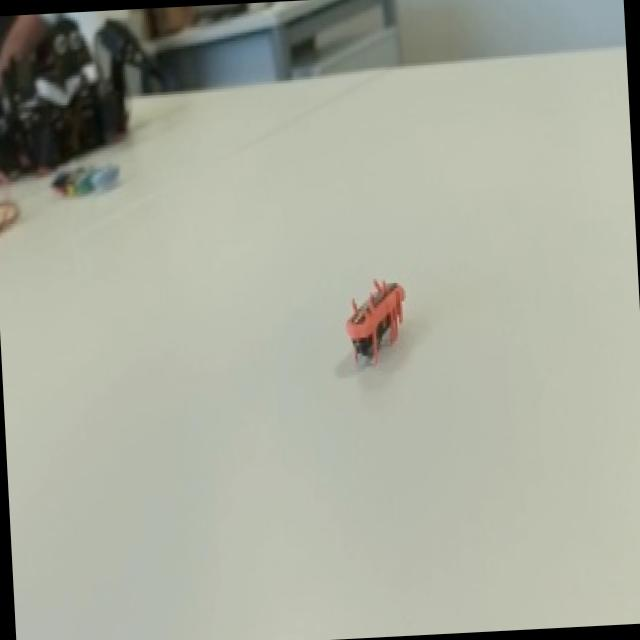7_NanoBug_Naranja: (343, 265, 419, 391)
